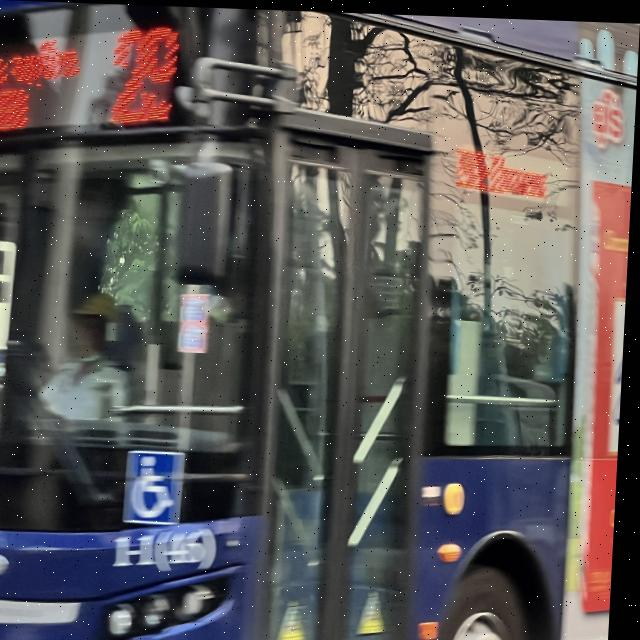Bus-Line-Number: (102, 19, 191, 129)
TSB-Bus: (0, 0, 640, 640)
